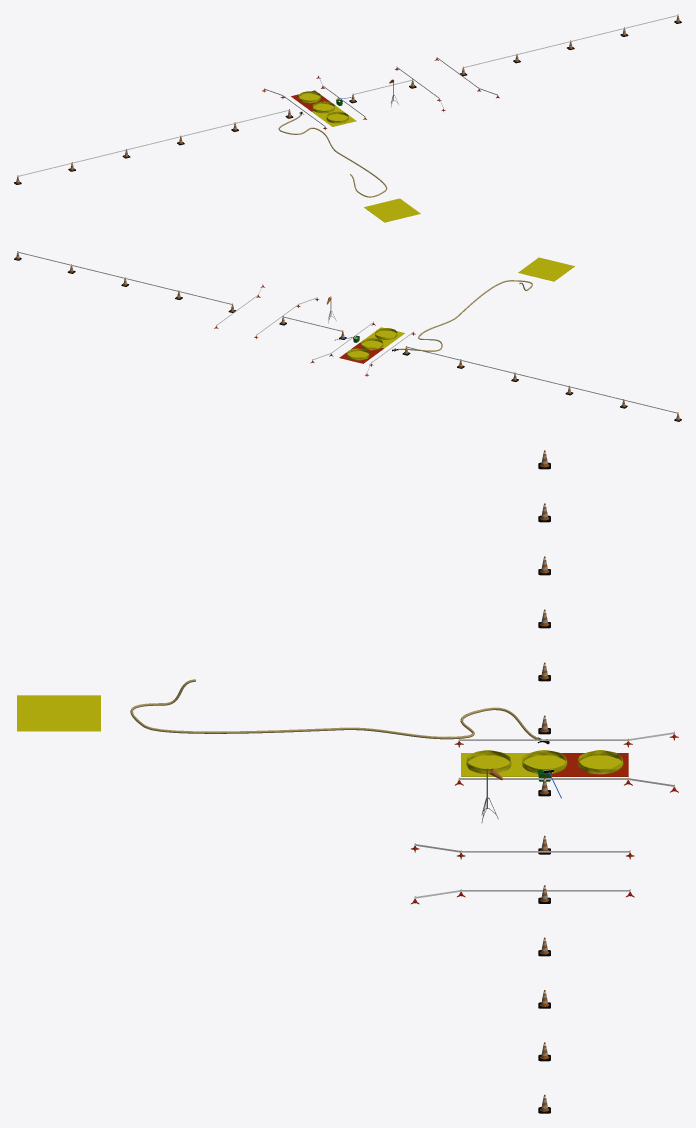
Rendered from abd.fbx.
3 renders of one model, top to bottom at view 1: azimuth 30°, elevation 25°; view 2: azimuth 150°, elevation 25°; view 3: azimuth 270°, elevation 25°, orthographic. The views are drawn at different scales.
Visible parts, largest first — view 1: lona 2, lona, cinta 7, manguera, cinta 6; view 2: lona 2, lona, cinta 7, manguera, cinta 6; view 3: lona 2, manguera, lona.
Boxes of the visible parts, x1,y1,x2,y2 form: lona 2: [364, 198, 420, 222]; lona: [291, 90, 356, 126]; cinta 7: [18, 110, 288, 176]; manguera: [278, 114, 387, 197]; cinta 6: [464, 15, 677, 67]; lona 2: [518, 257, 574, 281]; lona: [339, 327, 404, 363]; cinta 7: [407, 346, 677, 413]; manguera: [399, 280, 532, 351]; cinta 6: [18, 252, 231, 304]; lona 2: [17, 695, 100, 731]; manguera: [130, 679, 537, 739]; lona: [461, 753, 628, 776].
Bounding box in the file's own units: 5498 × 199 × 2368.
